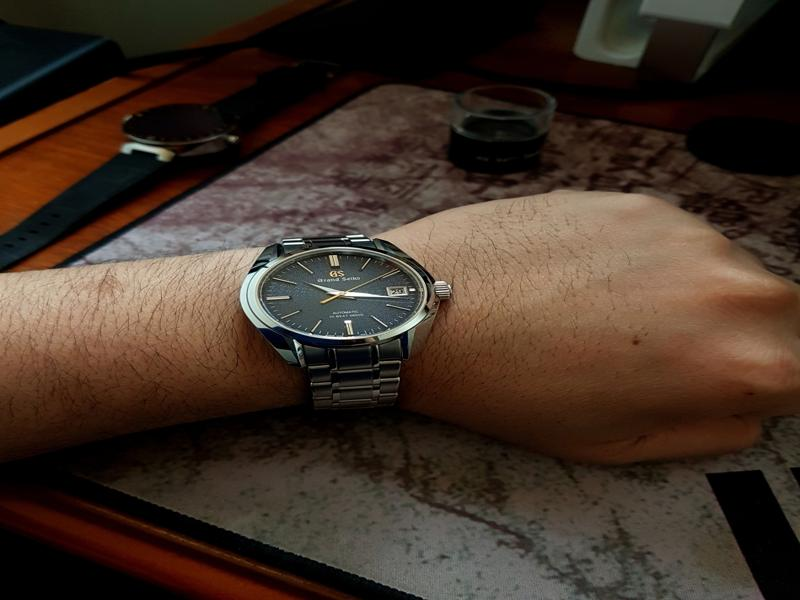watch: (243, 234, 452, 411)
